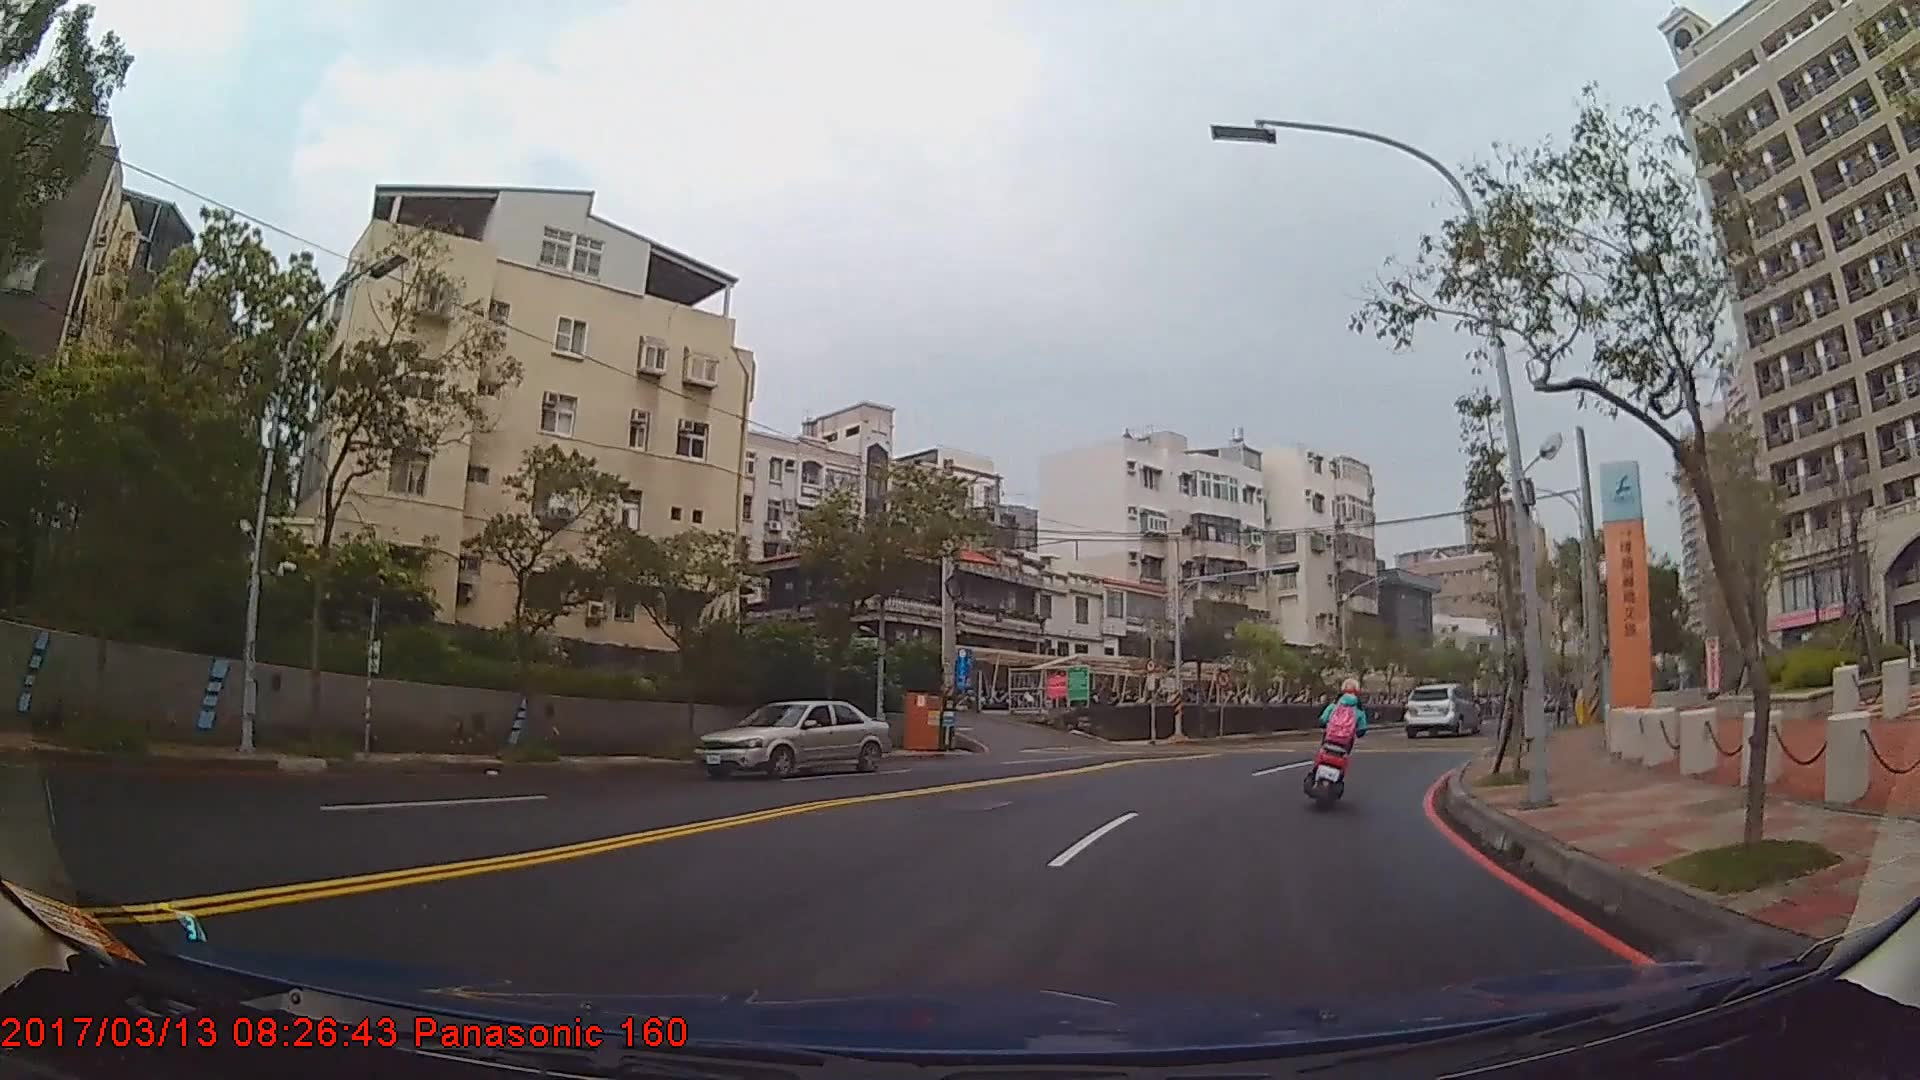rider: (1313, 677, 1372, 803)
vehicle: (691, 698, 890, 778), (1401, 682, 1478, 738)
